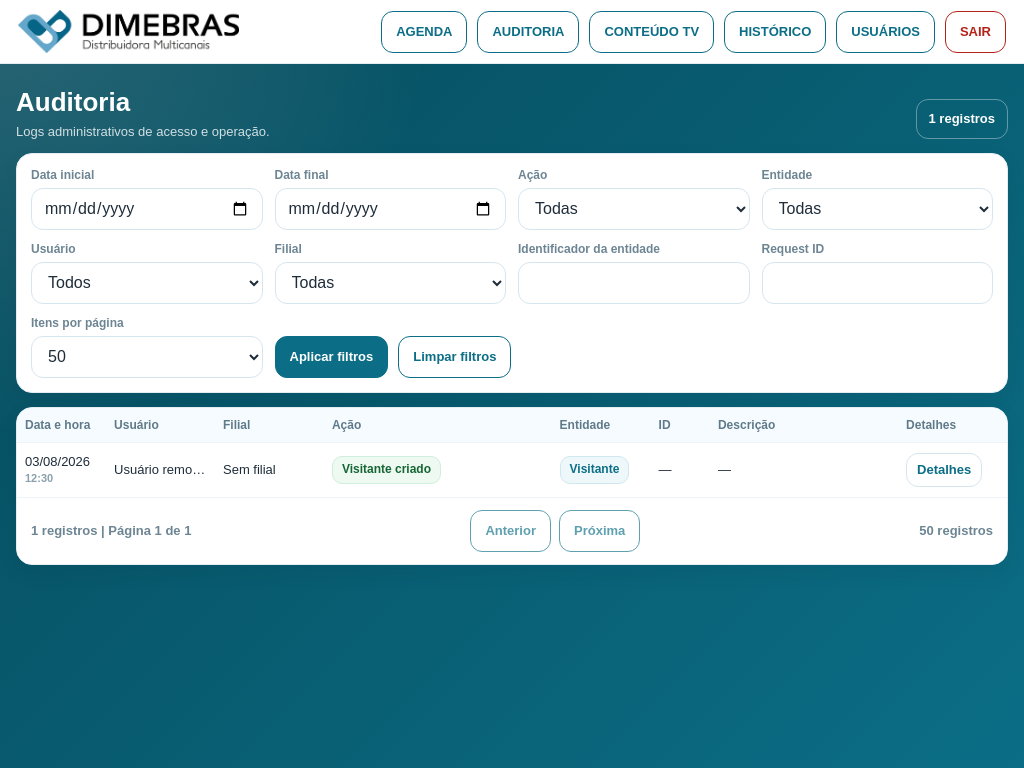
it: AuditLogs page › renders standardized null values in the details modal
The image size is (1024, 768).
Click the button with aria-label "Detalhes do registro de auditoria 10" at (944, 470), box [906,453,982,487]
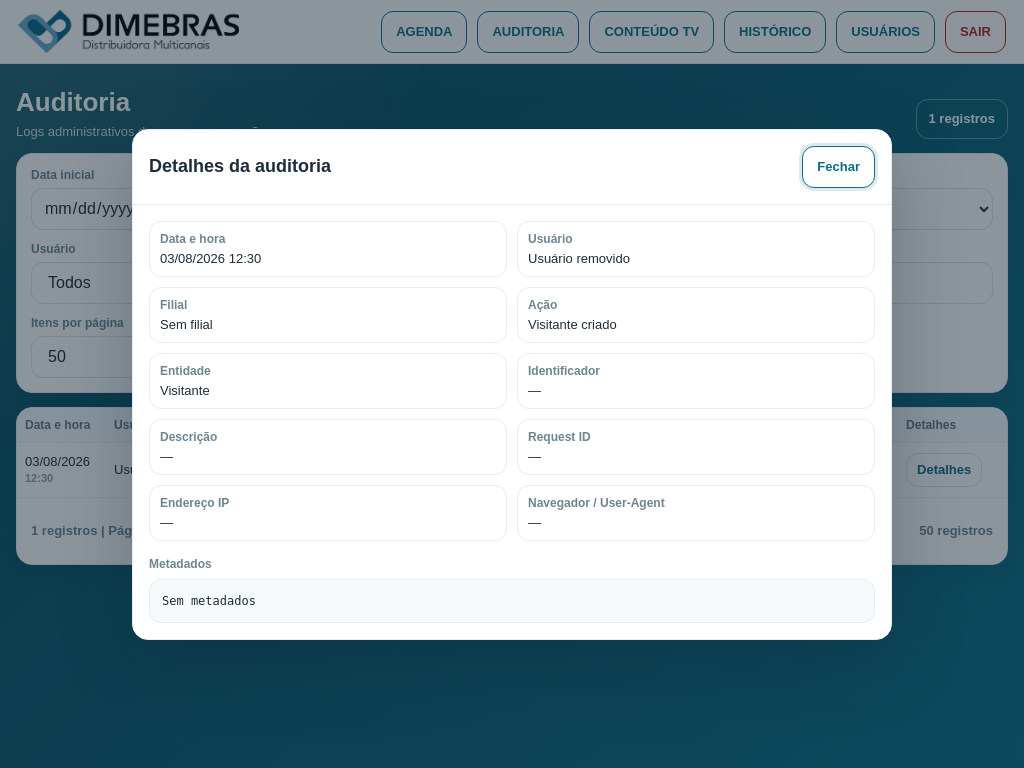
Result: the dialog "Detalhes da auditoria" shows "Usuário removido" at [528,250,630,266]
Result: the dialog "Detalhes da auditoria" shows "Sem filial" at [160,316,213,332]
Result: the text "Sem metadados" is shown at [149,578,875,622]
